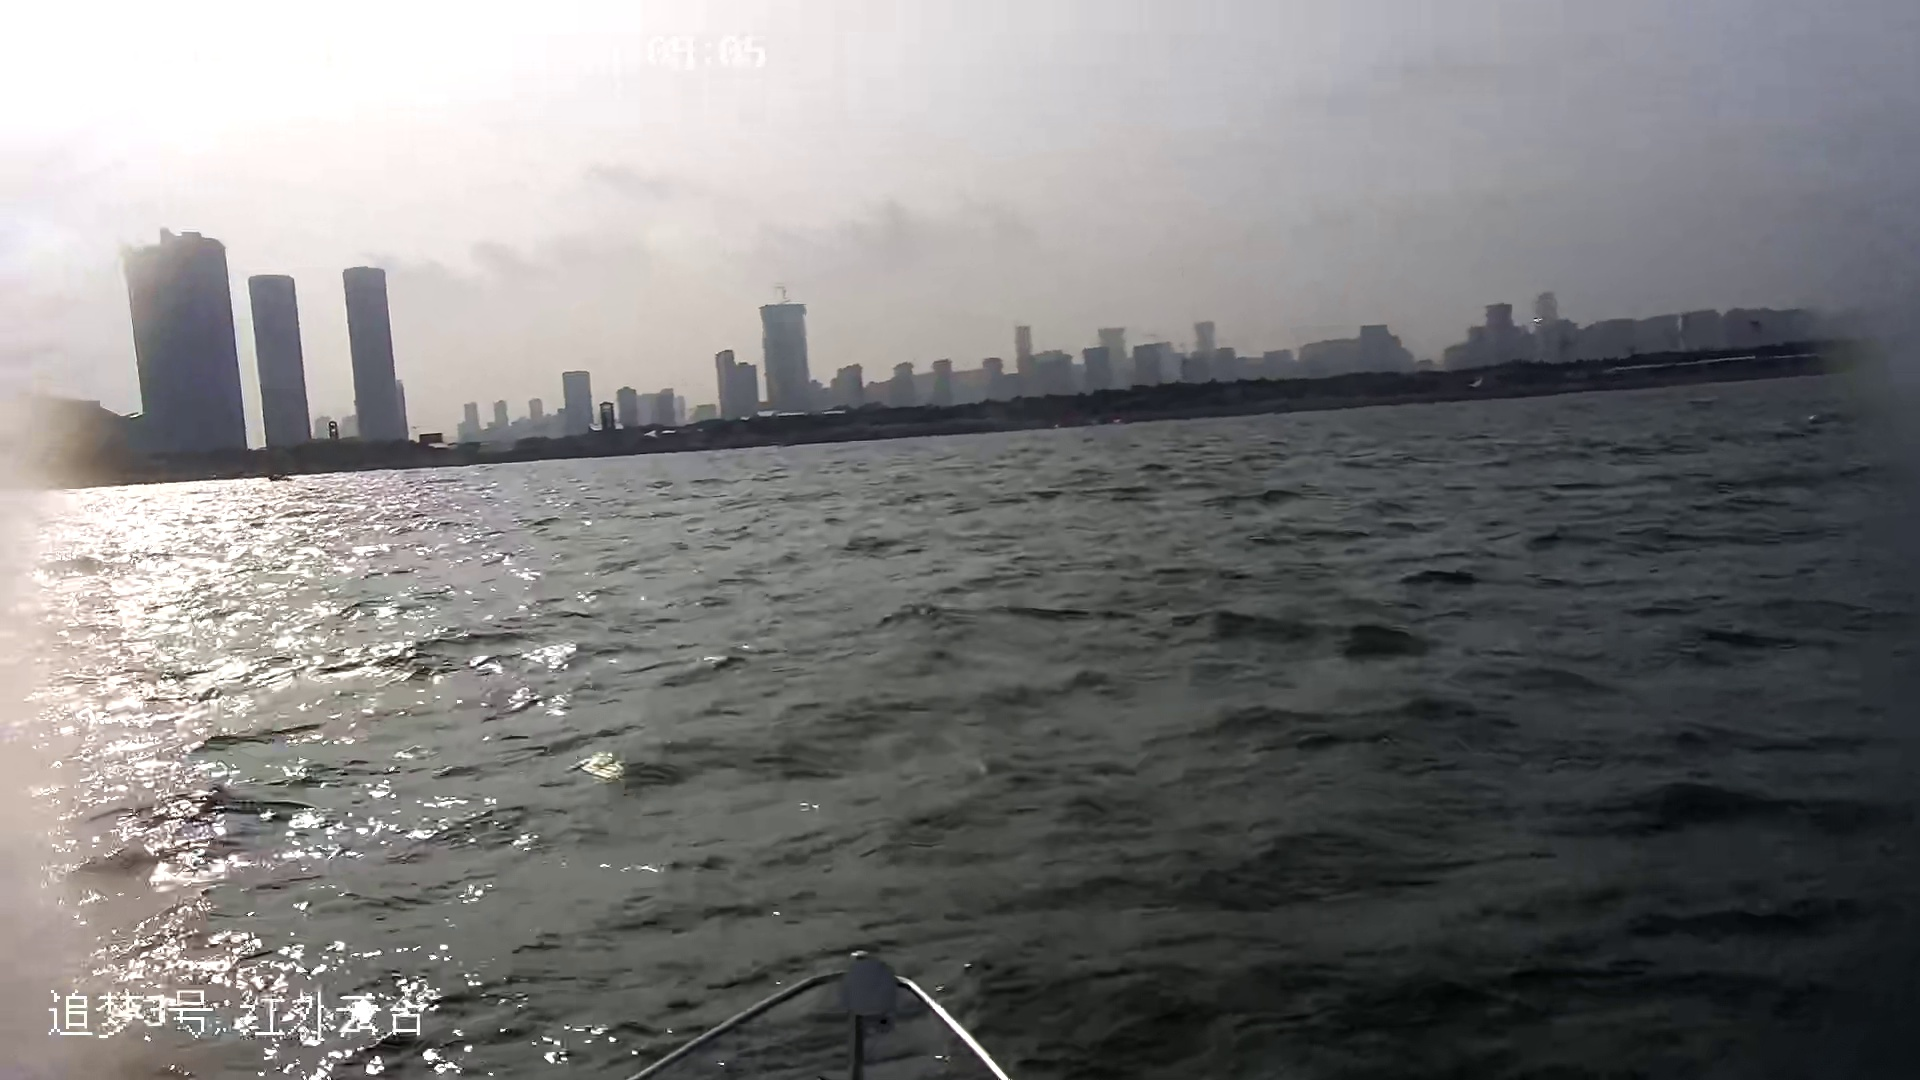coast: (32, 225, 1912, 493)
